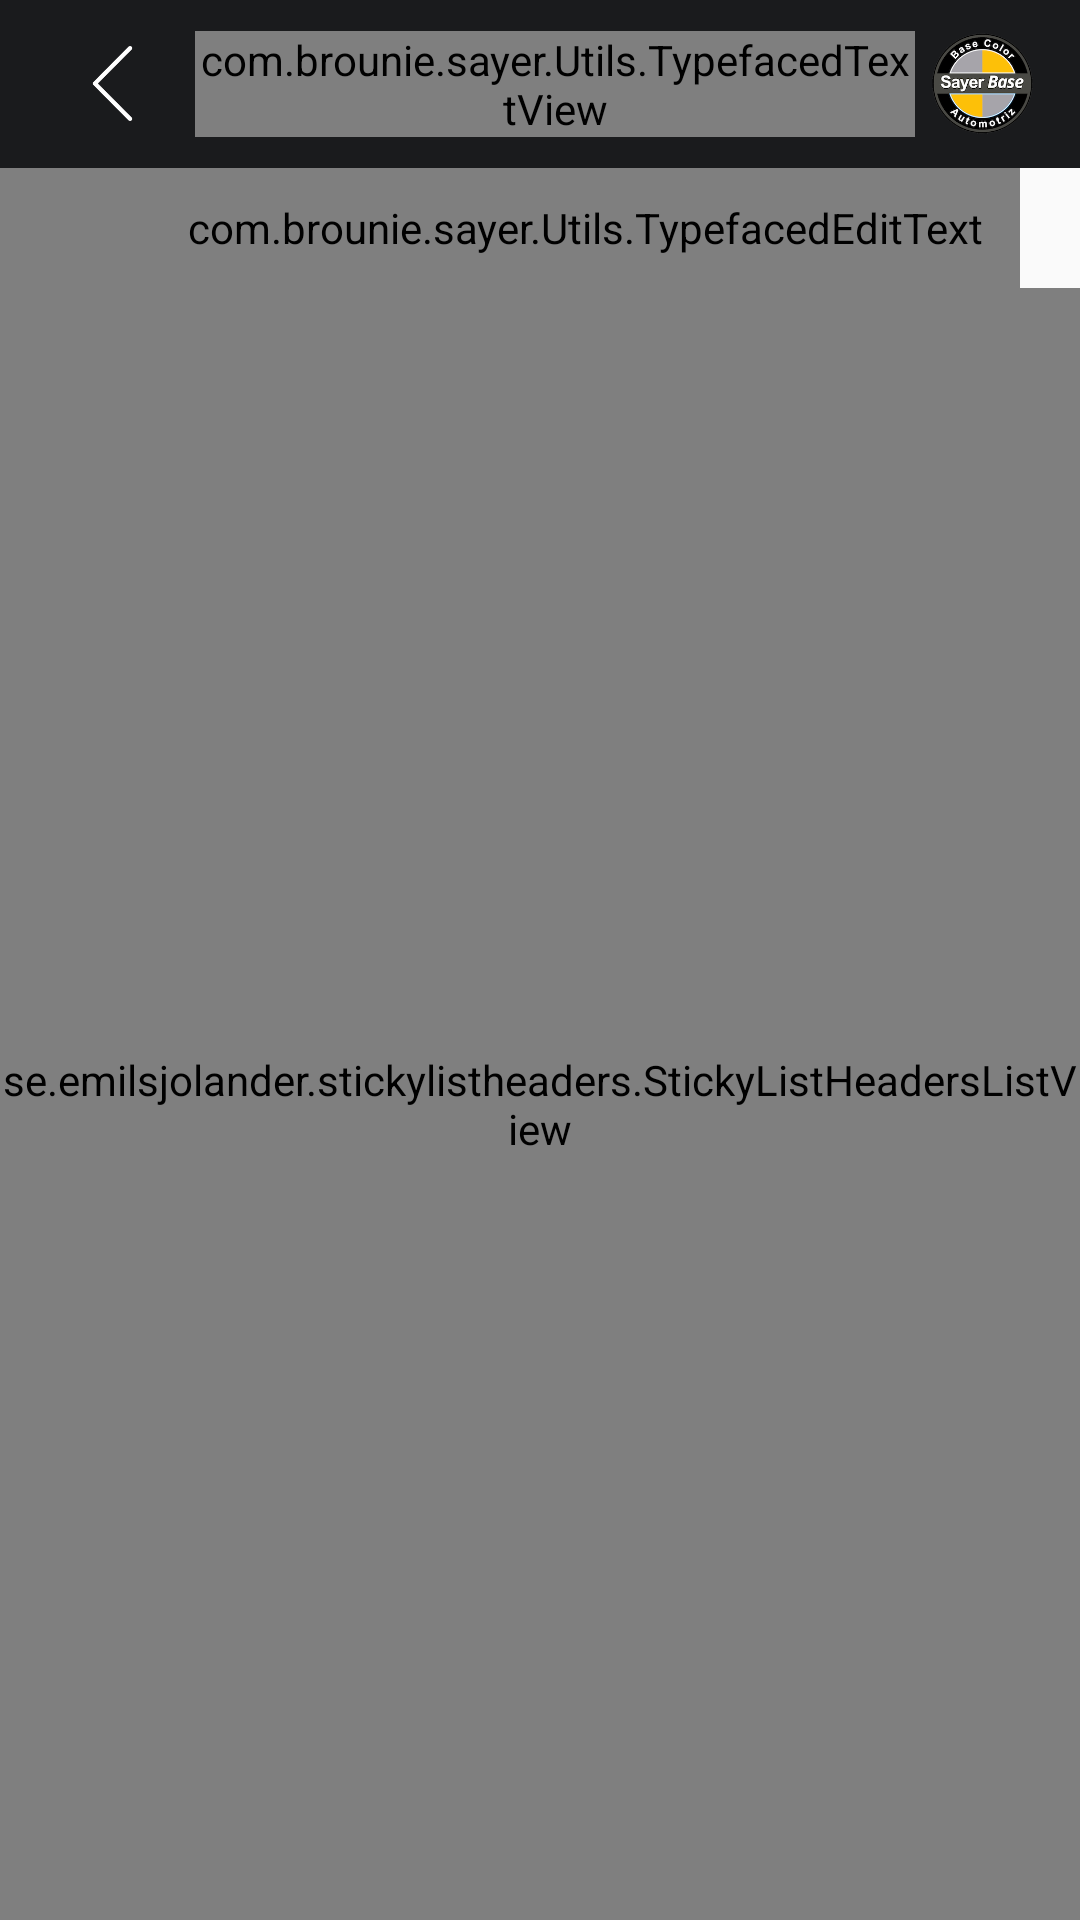

Point at icon controls on the screen. Image size 1080px x 1920px, points as (x=x, y=y).
back: (x=112, y=83)
